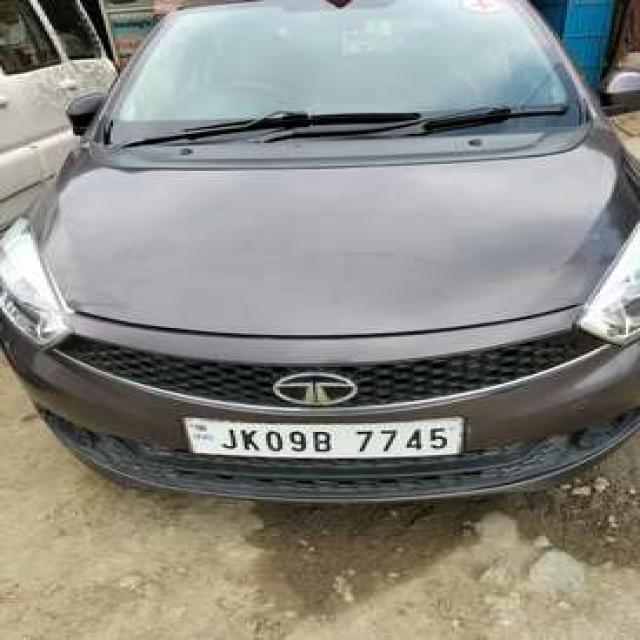Plate: (184, 415, 460, 458)
